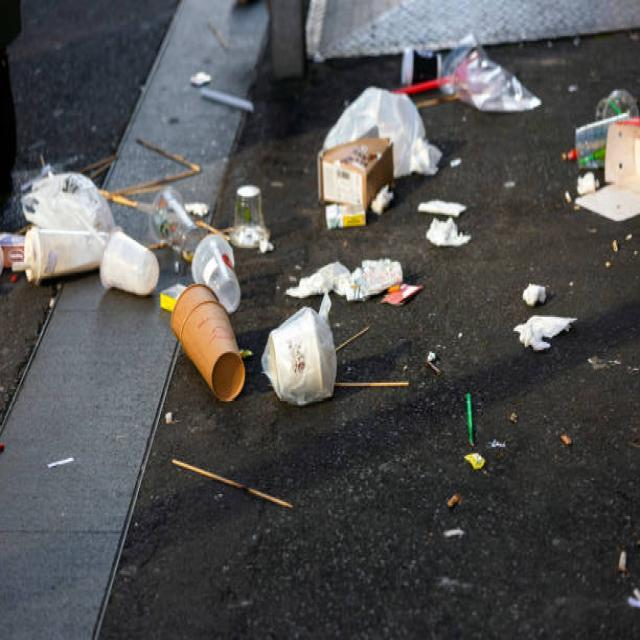leaf: (259, 294, 346, 409), (575, 93, 640, 241), (168, 286, 248, 404), (0, 209, 97, 298), (92, 222, 158, 327), (188, 231, 252, 318), (224, 175, 278, 260), (145, 181, 195, 263)
metal: (316, 56, 438, 170), (418, 18, 542, 122), (17, 161, 124, 241)
trash: (302, 128, 411, 211)
